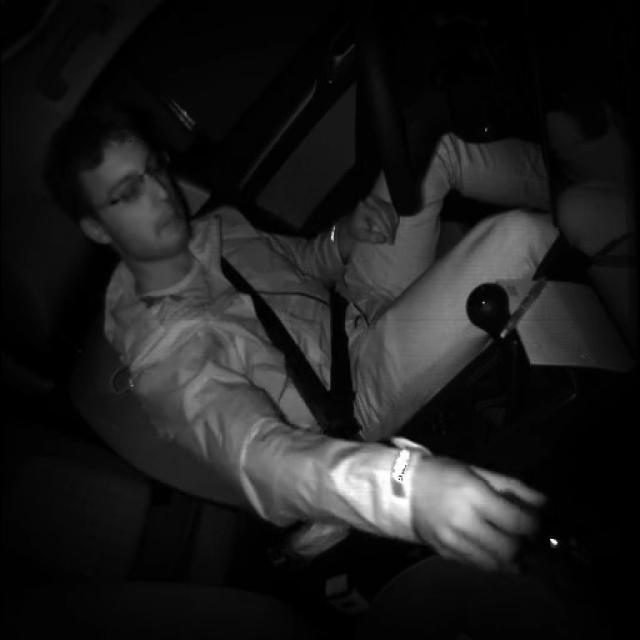pen: (499, 276, 548, 339)
